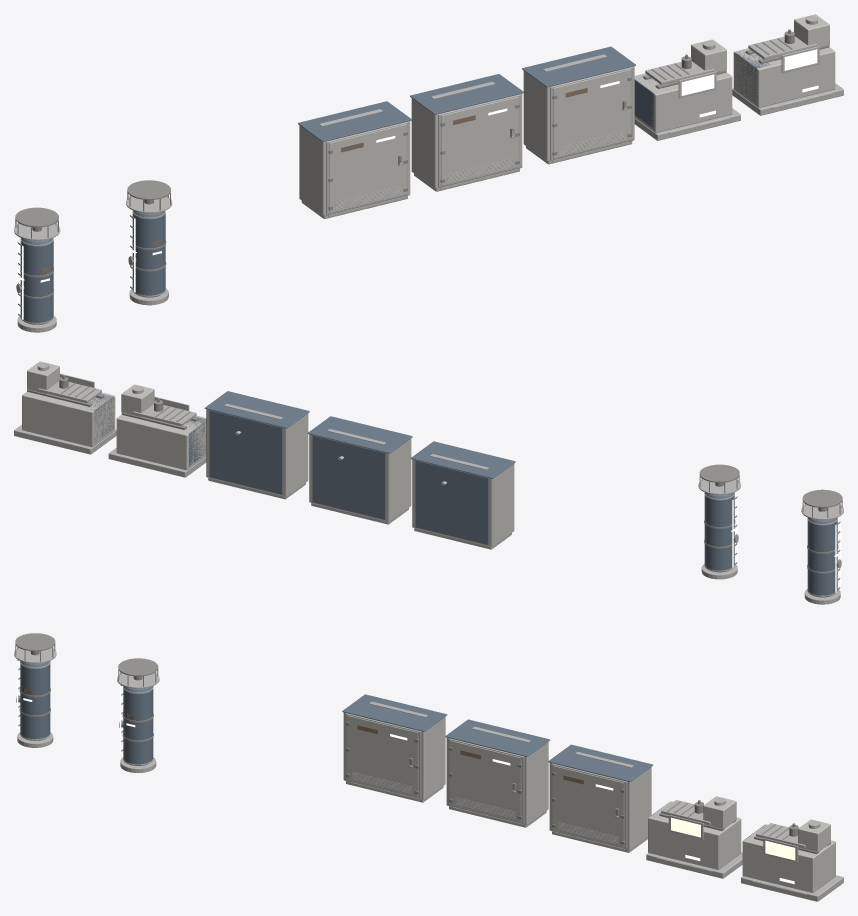
Rendered from xuanshu_interior_C08.glb.
3 renders of one model, top to bottom at view 1: azimuth 30°, elevation 25°; view 2: azimuth 150°, elevation 25°; view 3: azimuth 330°, elevation 25°, orthographic. The views are drawn at different scales.
Parts seen in each view (by area): view 1: UNIT-ATM-001_LOD10, UNIT-ATM-001_LOD12, UNIT-ATM-001_LOD11, UNIT-ATM-001_LOD14, UNIT-ATM-001_LOD13, UNIT-ATM-001_LOD16, UNIT-ATM-001_LOD15; view 2: UNIT-ATM-001_LOD11, UNIT-ATM-001_LOD10, UNIT-ATM-001_LOD12, UNIT-ATM-001_LOD14, UNIT-ATM-001_LOD13, UNIT-ATM-001_LOD16, UNIT-ATM-001_LOD15; view 3: UNIT-ATM-001_LOD10, UNIT-ATM-001_LOD11, UNIT-ATM-001_LOD12, UNIT-ATM-001_LOD14, UNIT-ATM-001_LOD13, UNIT-ATM-001_LOD15, UNIT-ATM-001_LOD16.
Part boxes in pixels (left/top/right/bottom): UNIT-ATM-001_LOD10: left=298, top=101, right=411, bottom=218; UNIT-ATM-001_LOD12: left=522, top=46, right=635, bottom=164; UNIT-ATM-001_LOD11: left=410, top=74, right=523, bottom=191; UNIT-ATM-001_LOD14: left=732, top=14, right=843, bottom=115; UNIT-ATM-001_LOD13: left=634, top=39, right=740, bottom=140; UNIT-ATM-001_LOD16: left=126, top=180, right=172, bottom=305; UNIT-ATM-001_LOD15: left=14, top=207, right=60, bottom=332; UNIT-ATM-001_LOD11: left=307, top=416, right=412, bottom=524; UNIT-ATM-001_LOD10: left=410, top=441, right=515, bottom=549; UNIT-ATM-001_LOD12: left=204, top=391, right=309, bottom=499; UNIT-ATM-001_LOD14: left=14, top=361, right=116, bottom=454; UNIT-ATM-001_LOD13: left=108, top=384, right=206, bottom=477; UNIT-ATM-001_LOD16: left=698, top=464, right=740, bottom=579; UNIT-ATM-001_LOD15: left=801, top=489, right=843, bottom=604; UNIT-ATM-001_LOD10: left=342, top=694, right=447, bottom=802; UNIT-ATM-001_LOD11: left=445, top=719, right=549, bottom=827; UNIT-ATM-001_LOD12: left=548, top=744, right=652, bottom=852; UNIT-ATM-001_LOD14: left=741, top=819, right=843, bottom=901; UNIT-ATM-001_LOD13: left=646, top=796, right=742, bottom=878; UNIT-ATM-001_LOD15: left=14, top=633, right=56, bottom=747; UNIT-ATM-001_LOD16: left=117, top=658, right=159, bottom=772.
Size of what is drawn, in the model's own units: 18.57 by 2.25 by 2.39.
